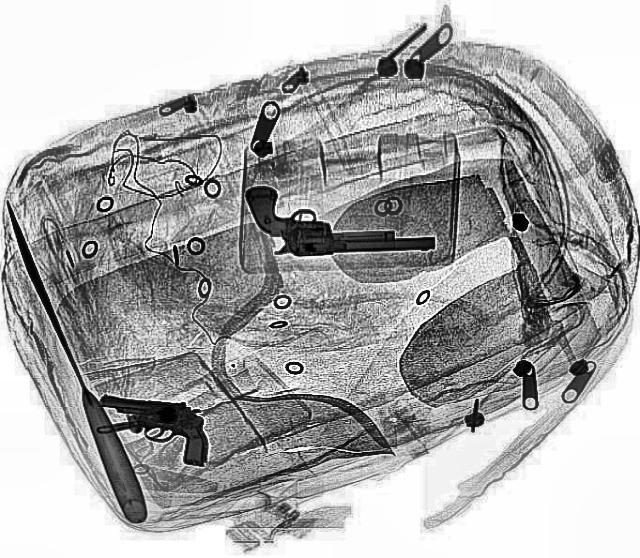Gun: (243, 179, 434, 258), (85, 389, 219, 467)
Knife: (0, 214, 154, 524)
